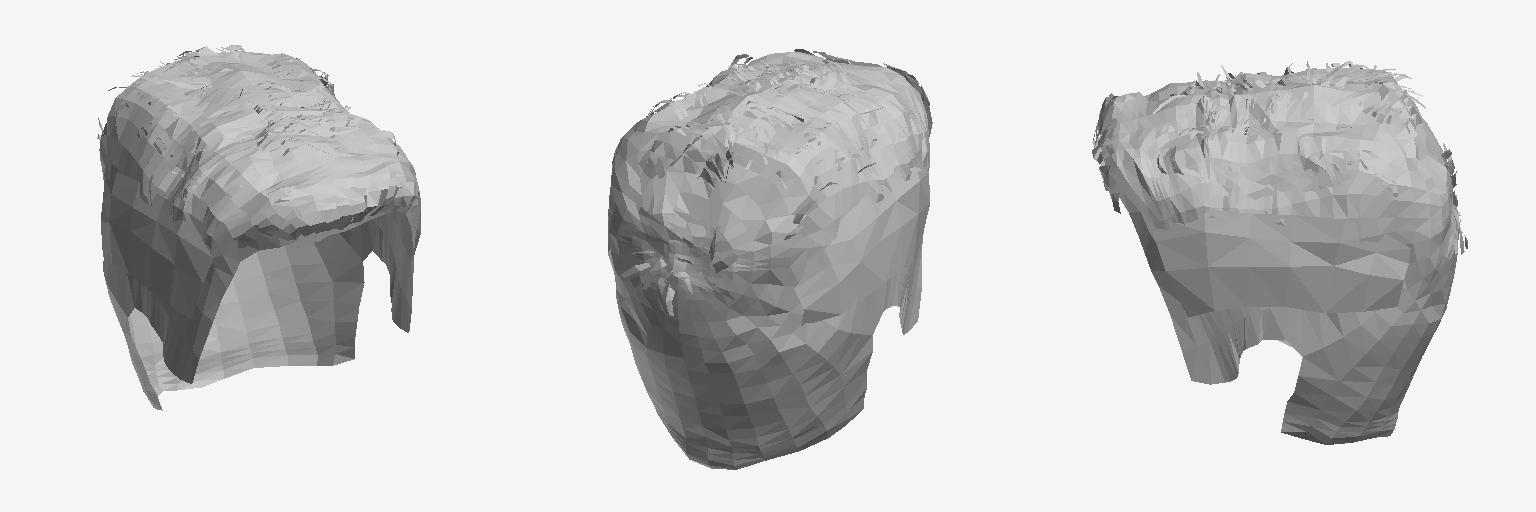
Rendered from hairman.obj.
The picture shows the model from 3 angles: view 1: azimuth 30°, elevation 25°; view 2: azimuth 150°, elevation 25°; view 3: azimuth 270°, elevation 25°; orthographic projection.
Visible parts, largest first — view 1: mhair01.obj; view 2: mhair01.obj; view 3: mhair01.obj.
Part boxes in pixels (x1,y1,x2,y2): mhair01.obj: (97,45,420,410); mhair01.obj: (608,49,932,469); mhair01.obj: (1092,61,1467,444).
Size of the model in its own units: 1.52 by 2.05 by 2.03.